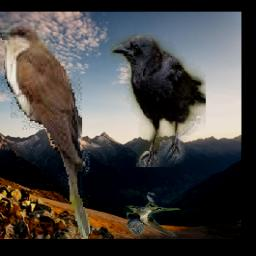Crow: (111, 36, 207, 168)
Cuckoo: (0, 23, 90, 238)
Swallow: (127, 203, 181, 237)
